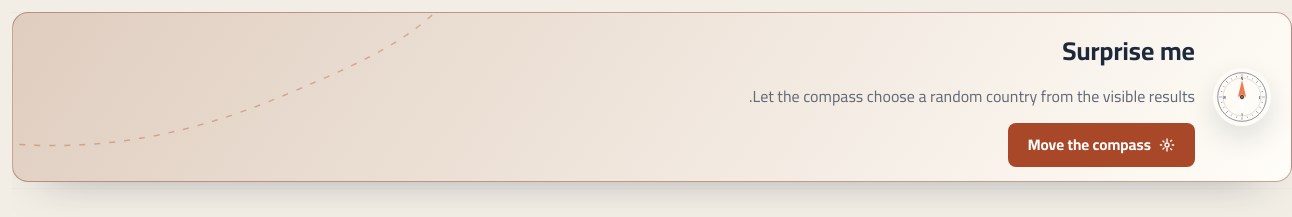
Test: SurpriseDestination › the compact compass reveal › survives a blocked sessionStorage instead of throwing out of the click handler
Click the button "Move the compass" at (1101,145), box [1008,123,1195,167]
Wait 900 ms
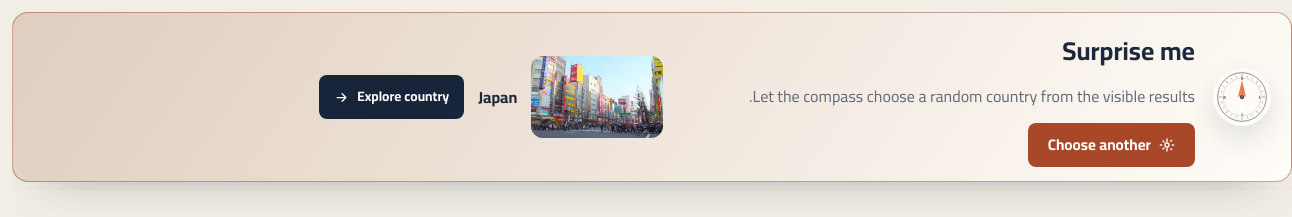
Now the link "Explore country" is shown, box [319,75,464,119]
